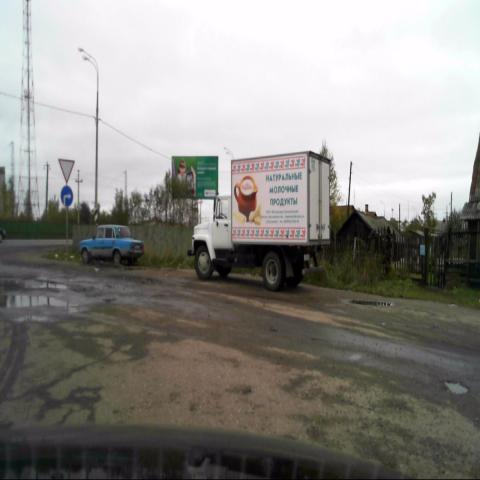4_1_2: (60, 186, 74, 206)
